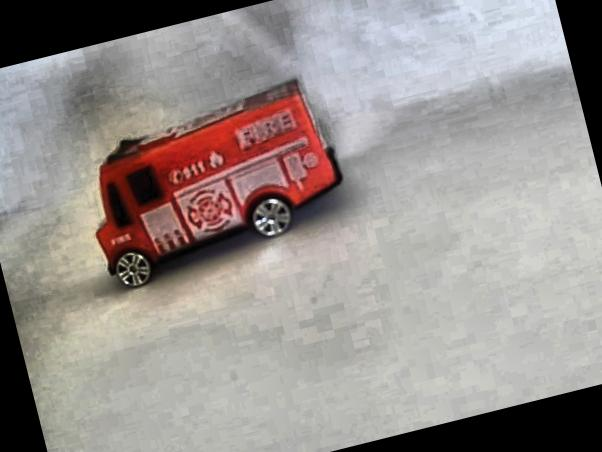fire_truck: (64, 72, 360, 297)
